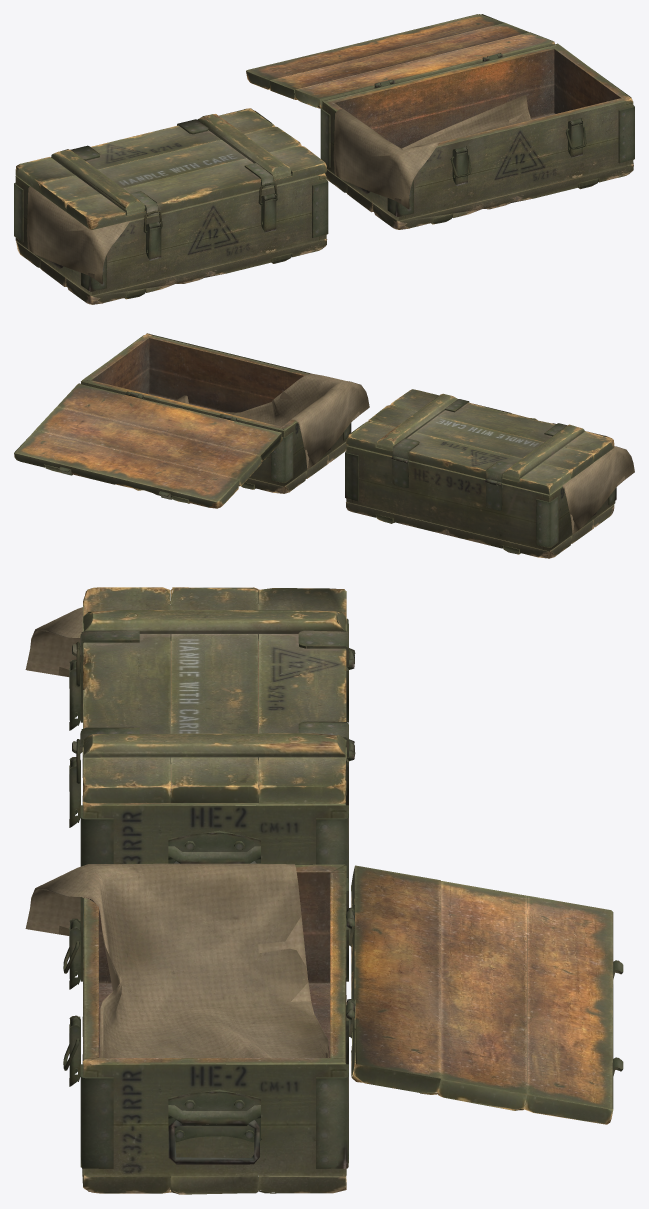
File: old_military_crate_lod0.glb
The picture shows the model from 3 angles, top to bottom: view 1: azimuth 30°, elevation 25°; view 2: azimuth 150°, elevation 25°; view 3: azimuth 270°, elevation 25°; orthographic projection. The views are drawn at different scales.
Parts seen in each view (by area): view 1: old_military_crate_b, old_military_crate_lid_a, old_military_crate_a, old_military_crate_lid_b, old_military_crate_cloth_b, old_military_crate_cloth_a, old_military_crate_latch_a, old_military_crate_latch_b; view 2: old_military_crate_lid_b, old_military_crate_lid_a, old_military_crate_a, old_military_crate_b, old_military_crate_cloth_b, old_military_crate_cloth_a; view 3: old_military_crate_lid_a, old_military_crate_lid_b, old_military_crate_b, old_military_crate_cloth_b, old_military_crate_a, old_military_crate_cloth_a, old_military_crate_latch_b, old_military_crate_latch_a.
Boxes of the visible parts, left/top/right/bottom form: old_military_crate_b: left=320, top=43, right=634, bottom=229; old_military_crate_lid_a: left=15, top=108, right=326, bottom=230; old_military_crate_a: left=14, top=173, right=328, bottom=304; old_military_crate_lid_b: left=246, top=14, right=554, bottom=108; old_military_crate_cloth_b: left=333, top=95, right=531, bottom=209; old_military_crate_cloth_a: left=26, top=186, right=130, bottom=284; old_military_crate_latch_a: left=146, top=193, right=276, bottom=260; old_military_crate_latch_b: left=452, top=118, right=582, bottom=186; old_military_crate_lid_b: left=14, top=383, right=282, bottom=508; old_military_crate_lid_a: left=346, top=389, right=614, bottom=494; old_military_crate_a: left=345, top=445, right=616, bottom=558; old_military_crate_b: left=81, top=333, right=351, bottom=493; old_military_crate_cloth_b: left=174, top=373, right=369, bottom=469; old_military_crate_cloth_a: left=562, top=446, right=634, bottom=534; old_military_crate_lid_a: left=72, top=587, right=355, bottom=803; old_military_crate_lid_b: left=346, top=865, right=623, bottom=1124; old_military_crate_b: left=80, top=864, right=354, bottom=1194; old_military_crate_cloth_b: left=25, top=863, right=329, bottom=1057; old_military_crate_a: left=80, top=618, right=354, bottom=882; old_military_crate_cloth_a: left=25, top=605, right=258, bottom=788; old_military_crate_latch_b: left=69, top=918, right=80, bottom=1086; old_military_crate_latch_a: left=69, top=659, right=80, bottom=827.
Size of the model in its own units: 1.82 by 0.3004 by 0.9756.
1 material, 1 textured.
